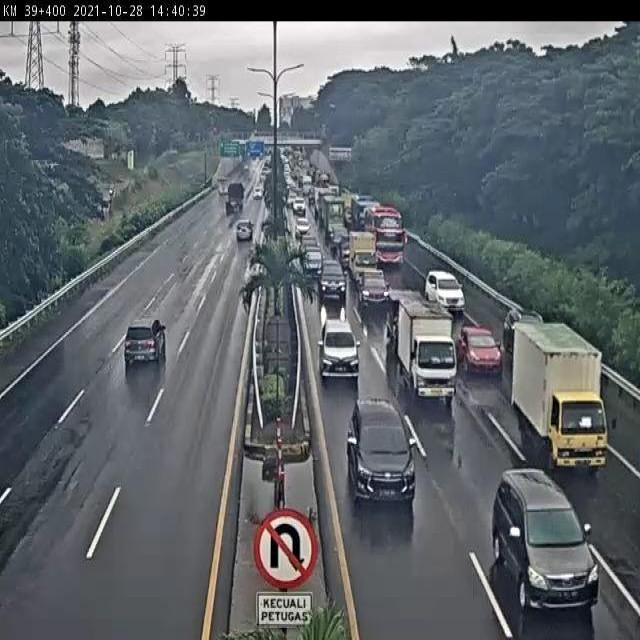big bus: (365, 207, 405, 264)
car: (492, 470, 600, 610), (347, 400, 418, 504), (318, 316, 361, 381), (458, 323, 503, 376), (123, 313, 166, 367), (504, 303, 546, 356), (425, 272, 466, 316), (317, 256, 347, 301), (358, 270, 387, 310)
small truck: (512, 321, 609, 471), (405, 306, 459, 406), (348, 230, 376, 286)
